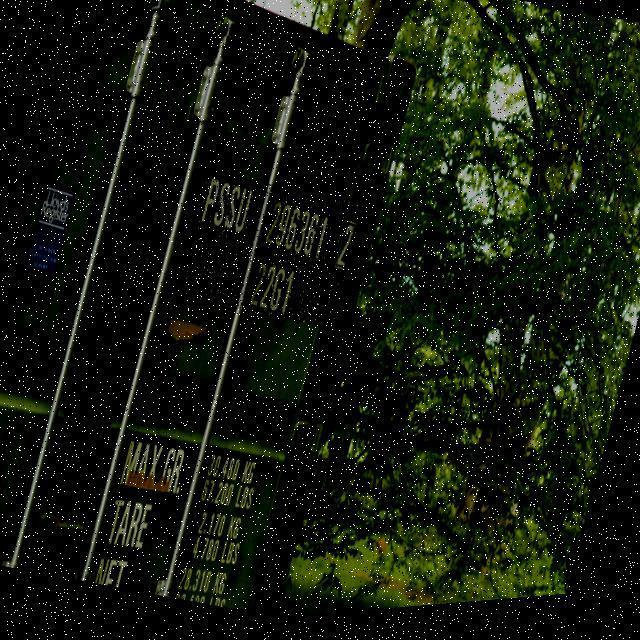container_number_h: (175, 165, 365, 343)
